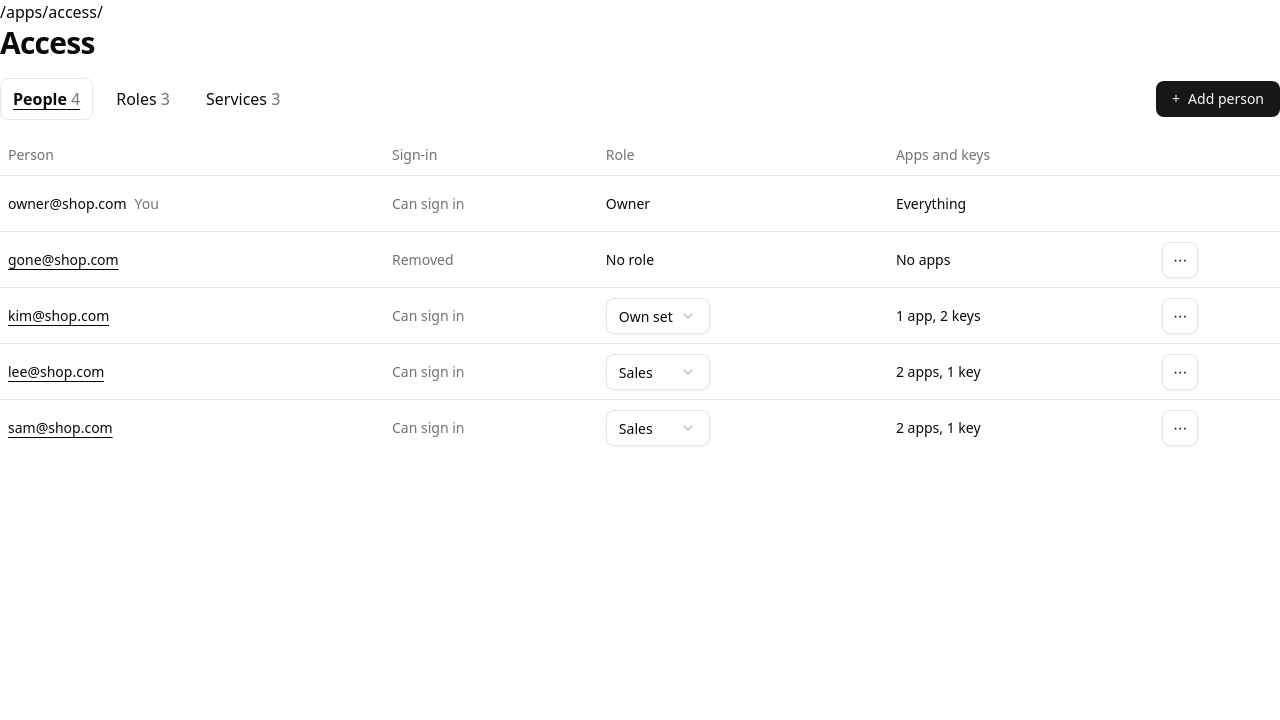
Test case: adds a person with a role in one save, from the keyboard, with every control labelled
The image size is (1280, 720).
Click the link "+ Add person" at (1218,98), box [1156,80,1279,116]
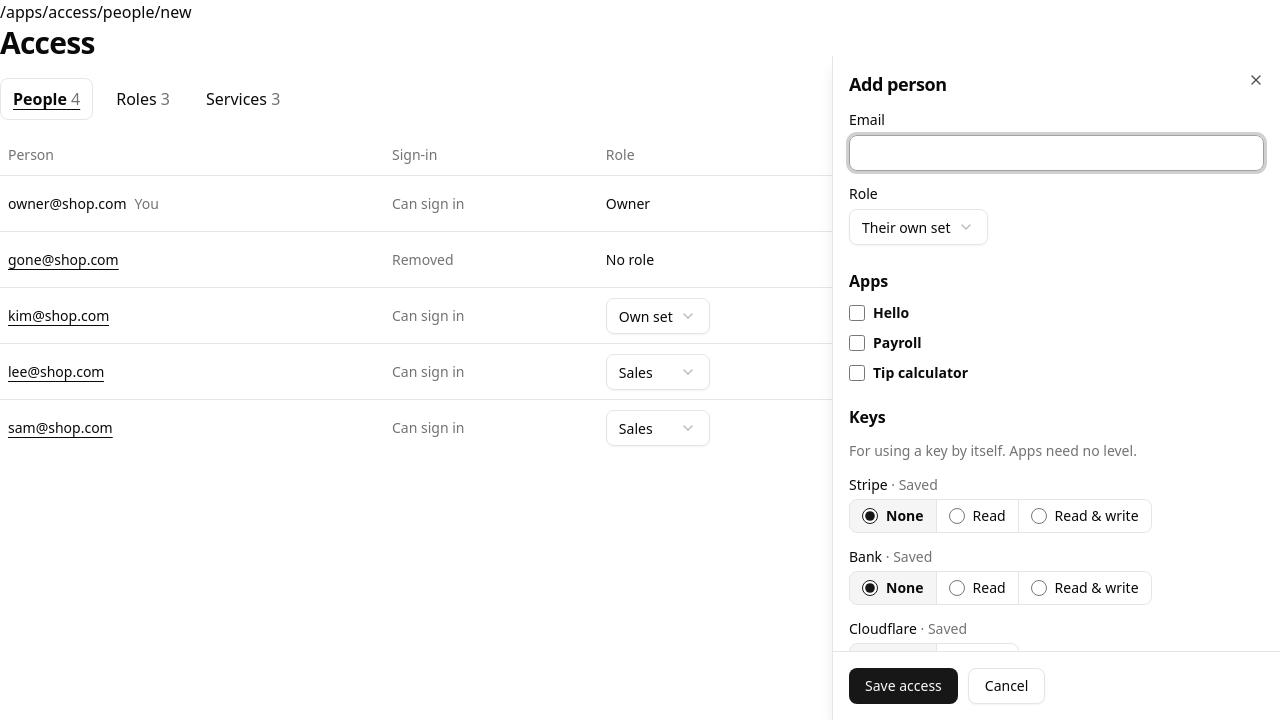
Check: the text with test id "where" reads "/apps/access/people/new", box [0,1,192,23]
Type "new@shop.com" into the field labelled "Email" at (1056,153), box [849,135,1264,171]
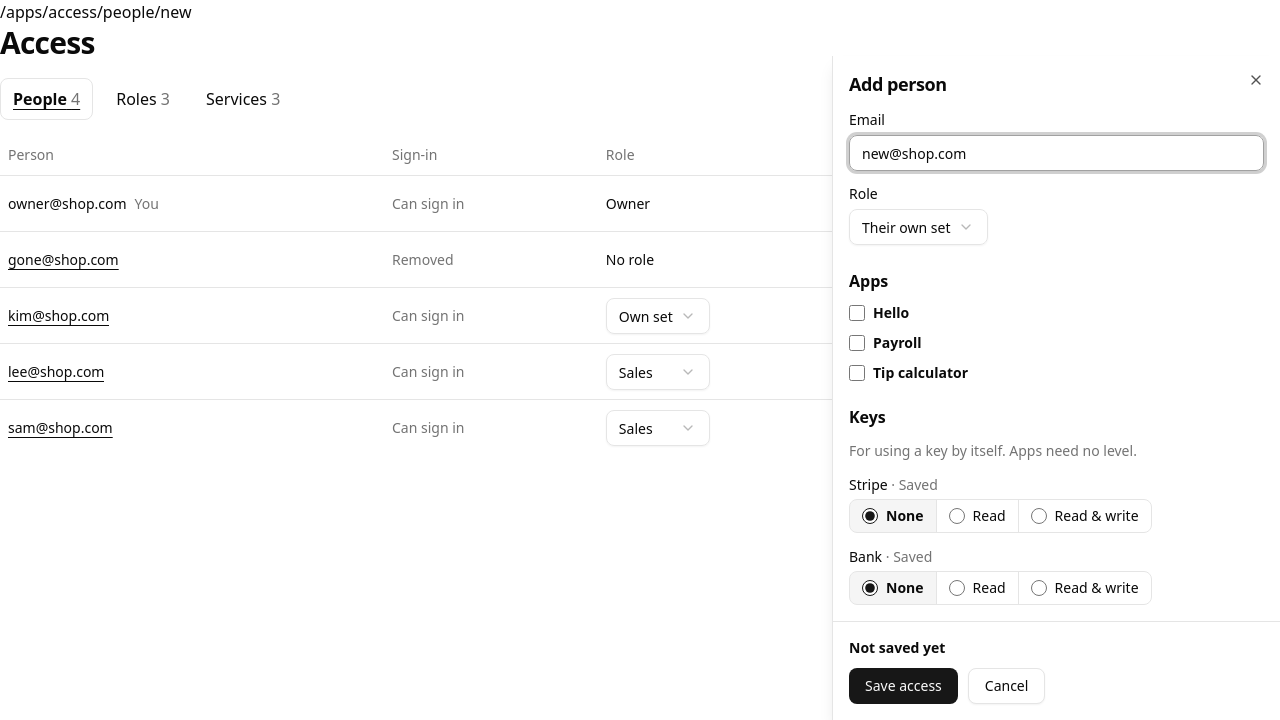
Select "Sales" in the dropdown labelled "Role" at (918,227), box [849,209,988,245]
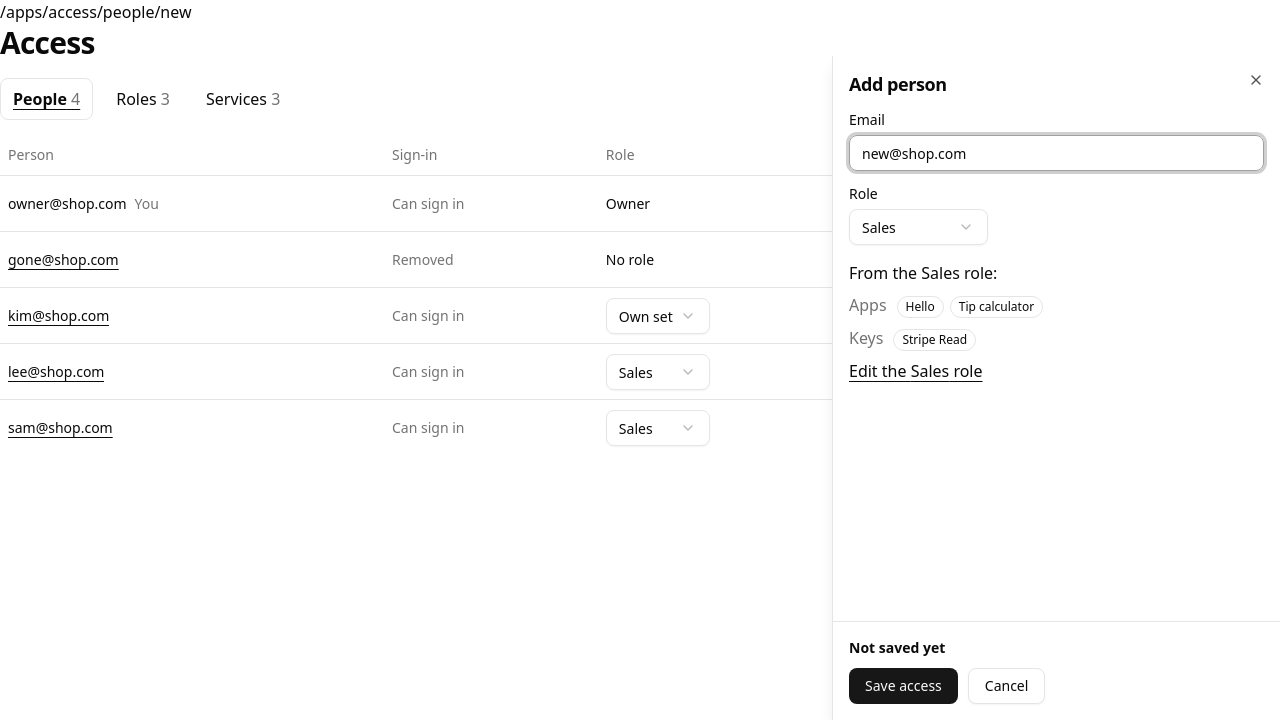
Submit the form labelled "Email", box [833,113,1279,719]
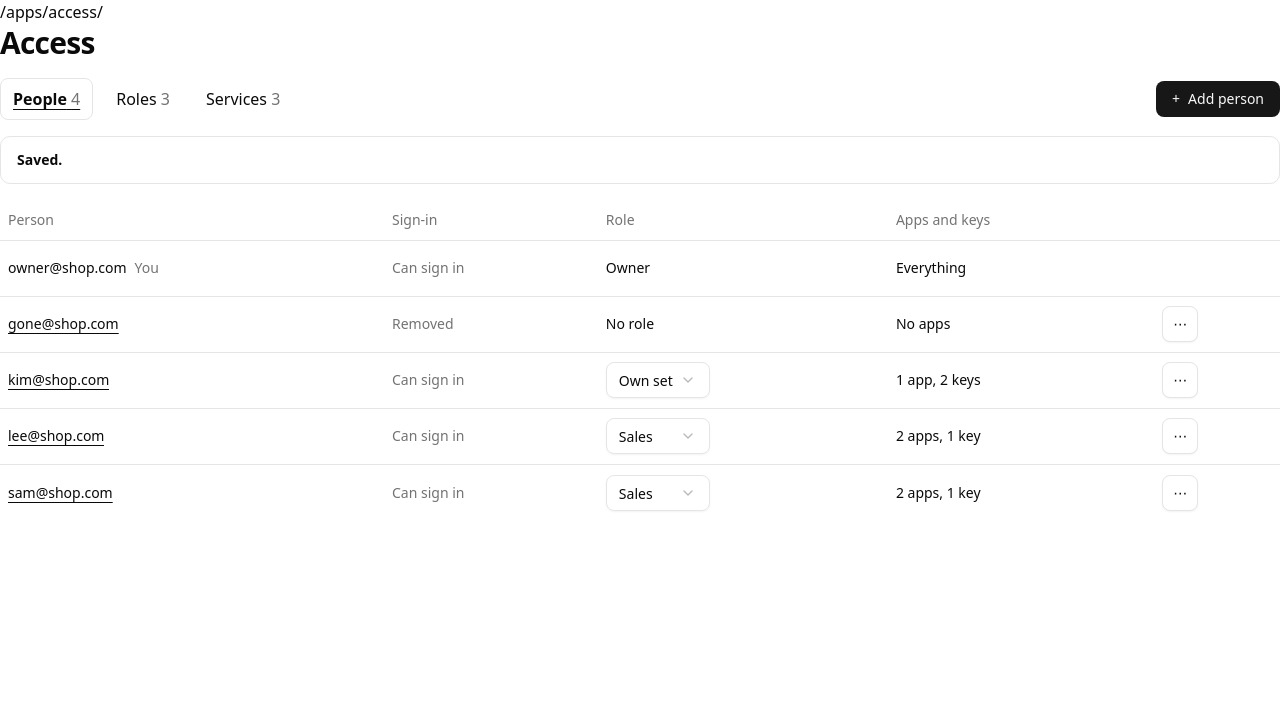
Check: the text "Saved." is shown, box [17,150,62,168]
